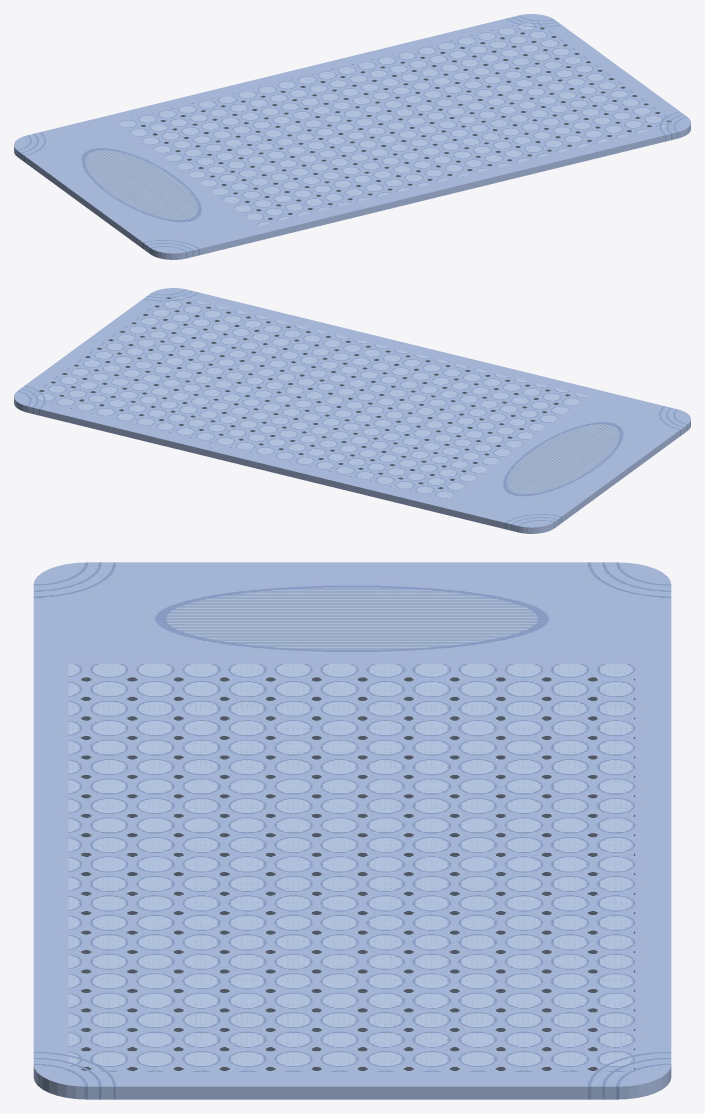
Rendered from shower_mat.glb.
The picture shows the model from 3 angles, top to bottom: view 1: azimuth 30°, elevation 25°; view 2: azimuth 150°, elevation 25°; view 3: azimuth 270°, elevation 25°; orthographic projection. The views are drawn at different scales.
Visible parts, largest first — view 1: Shower Mat; view 2: Shower Mat; view 3: Shower Mat.
Boxes of the visible parts, x1,y1,x2,y2 form: Shower Mat: [14, 14, 690, 259]; Shower Mat: [14, 288, 690, 533]; Shower Mat: [33, 562, 671, 1099].
Bounding box in the file's own units: 0.7 × 0.008 × 0.36.
Materials: 1 (1 with a texture image).
